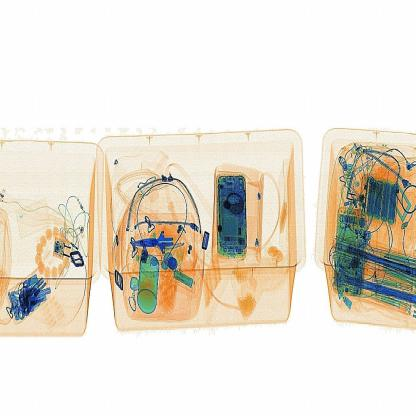gun: (131, 221, 193, 269)
